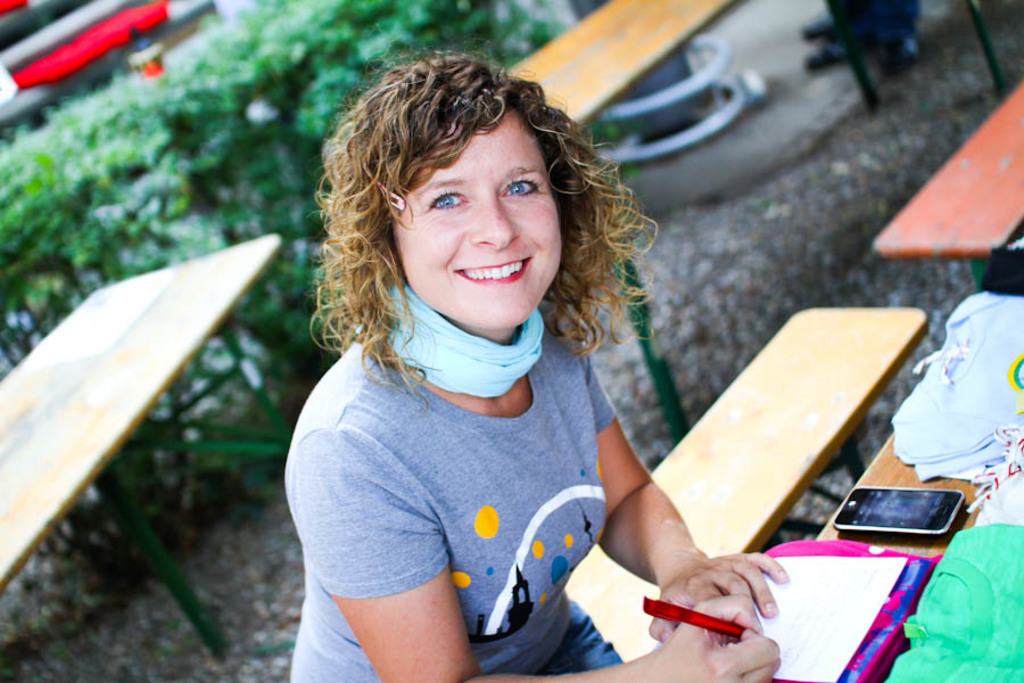Mobile-phone: (828, 480, 968, 537)
